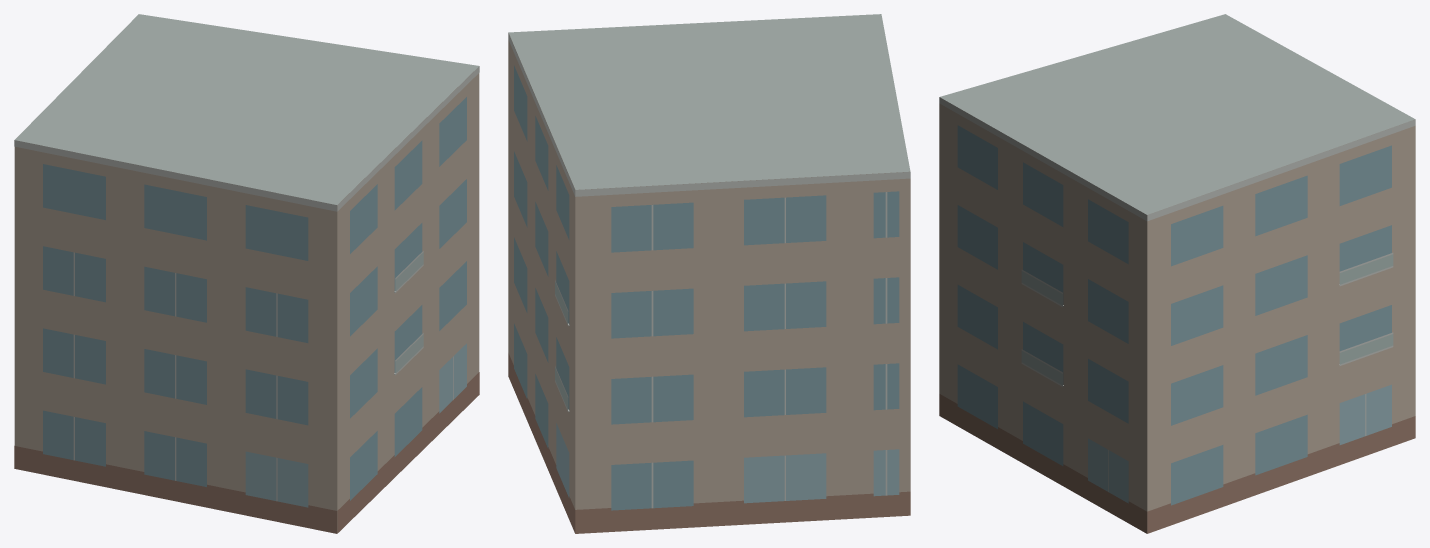
File: survey-upis-32953938.glb
3 renders of one model, left to right at view 1: azimuth 30°, elevation 25°; view 2: azimuth 150°, elevation 25°; view 3: azimuth 270°, elevation 25°, orthographic. The views are drawn at different scales.
Visible parts, largest first — view 1: survey-upis-32953938.tmp; view 2: survey-upis-32953938.tmp; view 3: survey-upis-32953938.tmp.
Boxes of the visible parts, x1=… form: survey-upis-32953938.tmp: x1=14, y1=14, x2=479, y2=533; survey-upis-32953938.tmp: x1=508, y1=14, x2=910, y2=533; survey-upis-32953938.tmp: x1=939, y1=14, x2=1415, y2=533.
Size of the model in its own units: 16.5 by 12.2 by 16.52.
